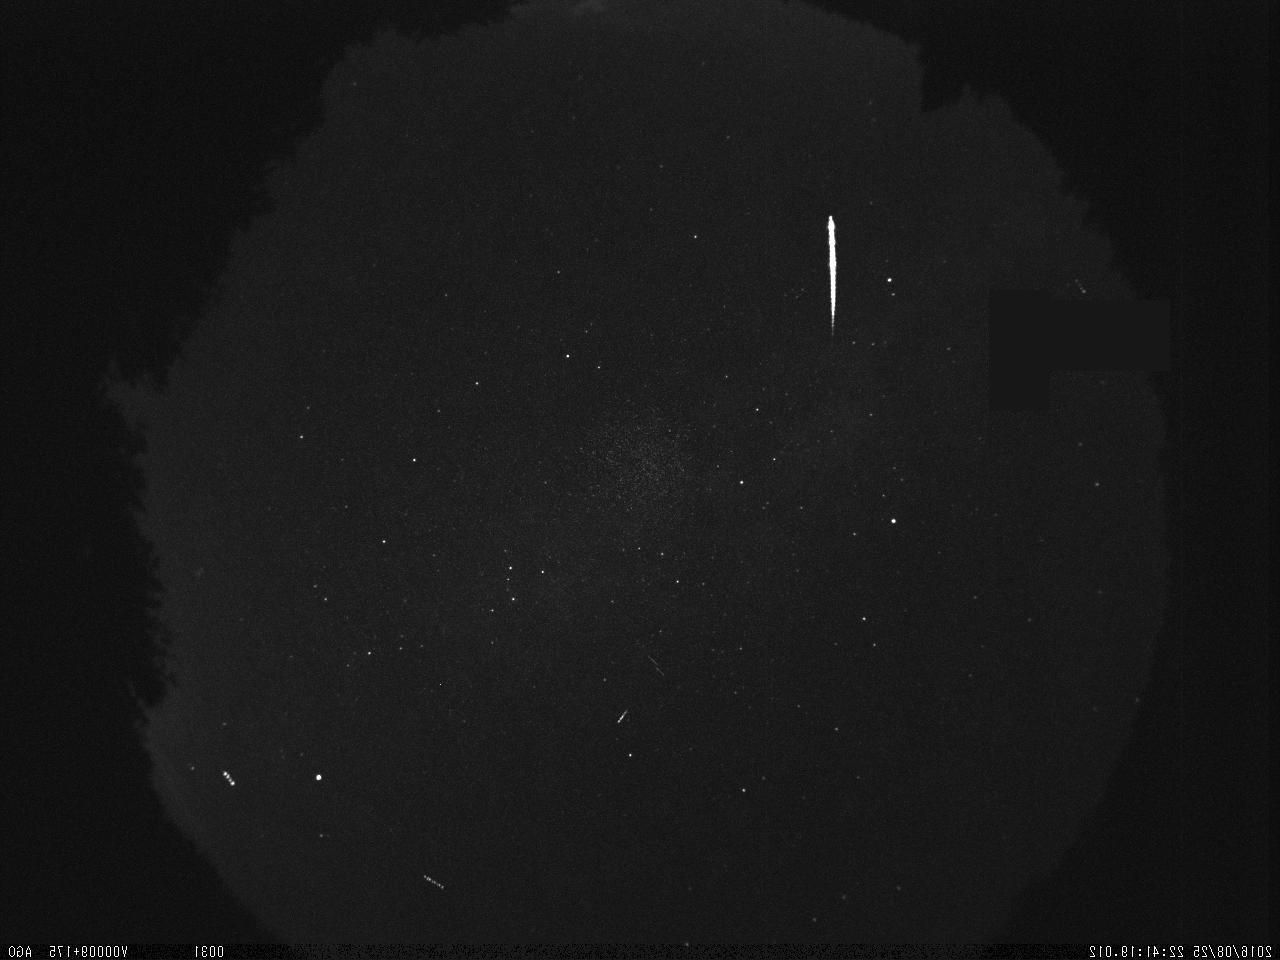meteor: (814, 208, 845, 341)
satelite: (413, 865, 450, 896), (217, 767, 241, 792)
